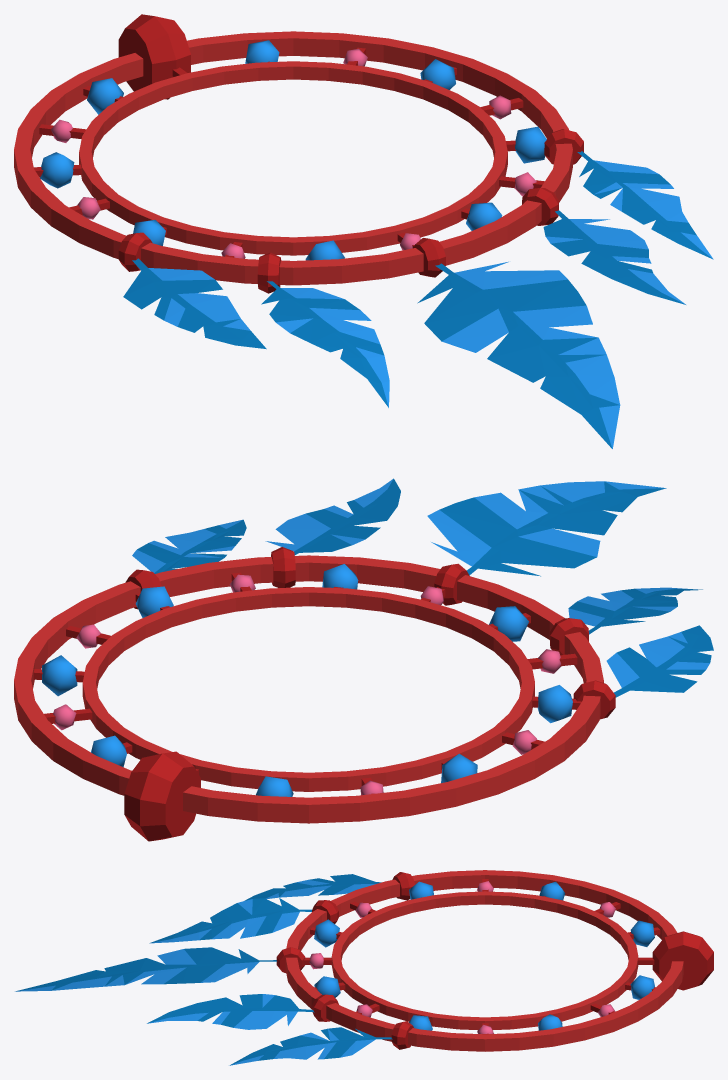
Rendered from Dreamcatcher_02.FBX.
The picture shows the model from 3 angles, top to bottom: view 1: azimuth 30°, elevation 25°; view 2: azimuth 150°, elevation 25°; view 3: azimuth 270°, elevation 25°; orthographic projection. The views are drawn at different scales.
Parts seen in each view (by area): view 1: Dreamcatcher_02; view 2: Dreamcatcher_02; view 3: Dreamcatcher_02.
Part boxes in pixels (x1,y1,x2,y2): Dreamcatcher_02: [14, 14, 713, 448]; Dreamcatcher_02: [14, 478, 713, 841]; Dreamcatcher_02: [15, 870, 713, 1065].
Size of the model in its own units: 42.28 by 6.78 by 67.93.
